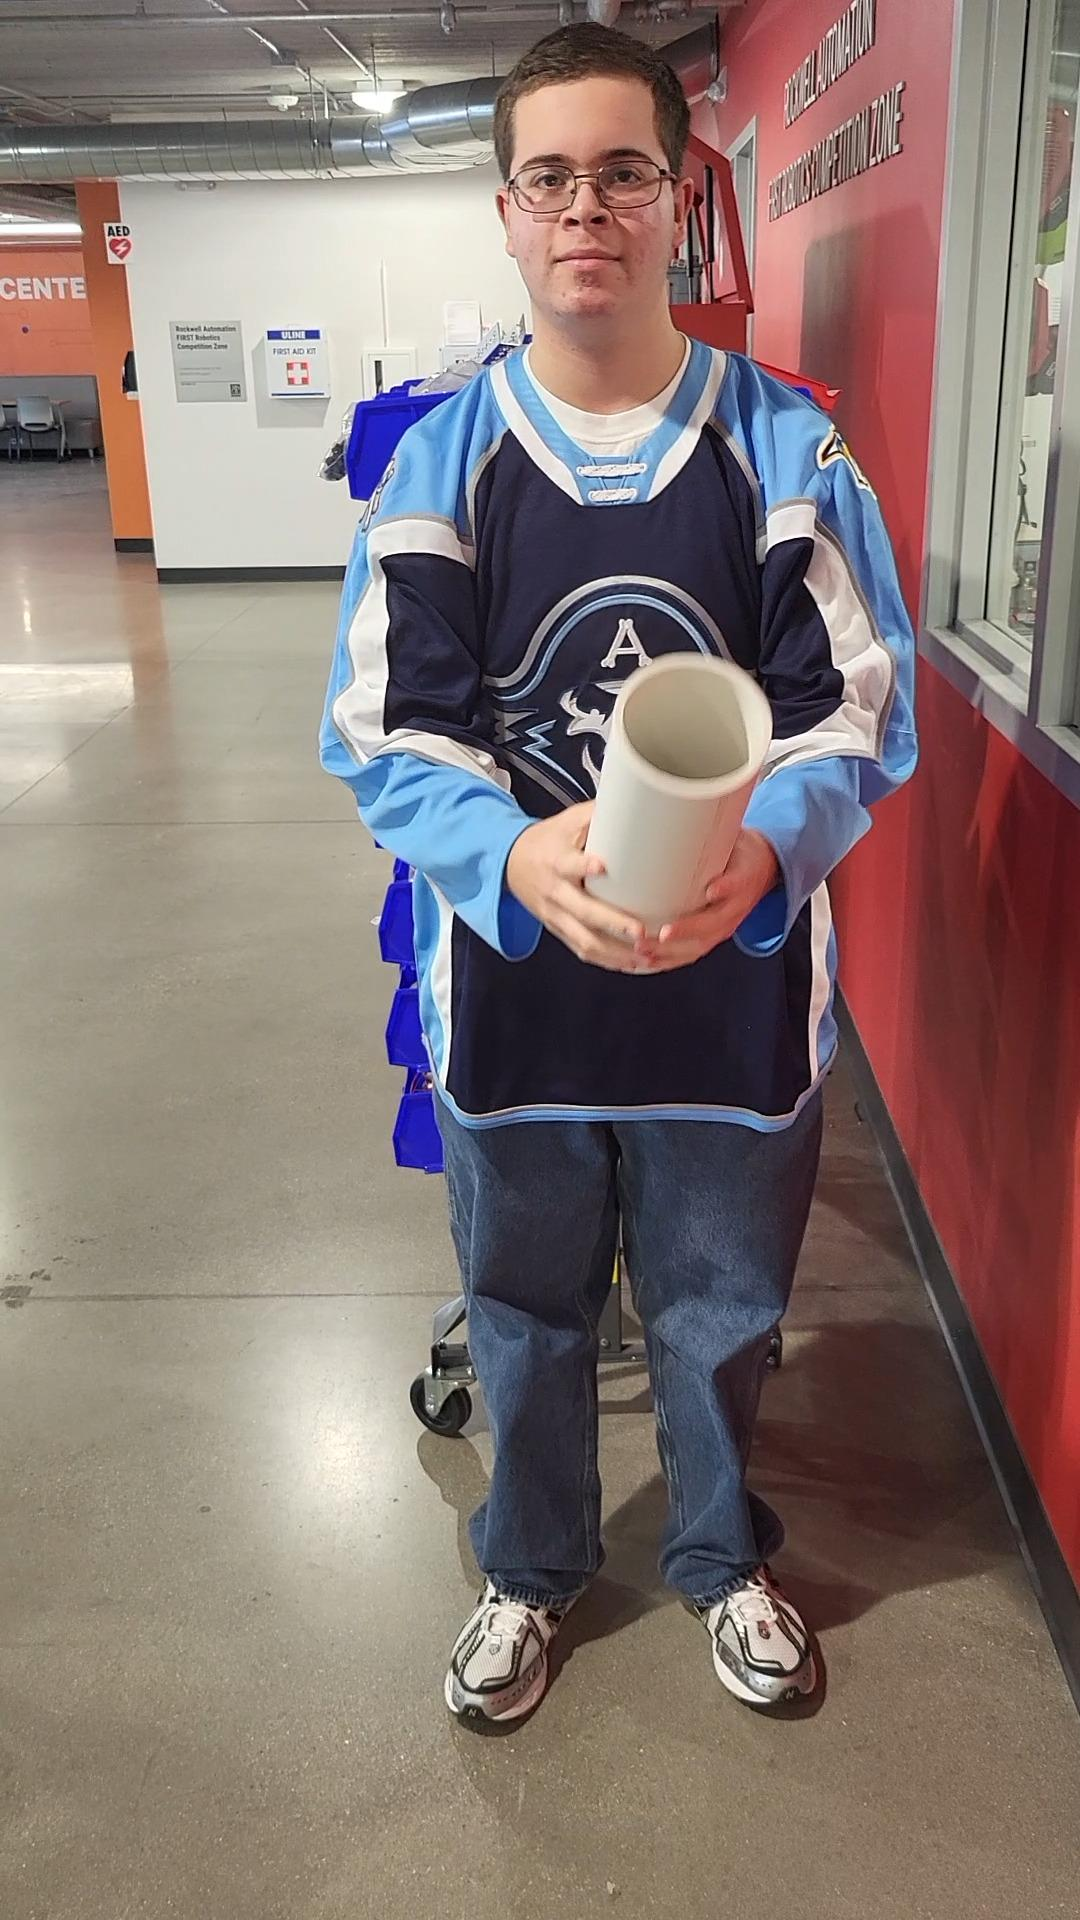coral: (570, 641, 781, 934)
